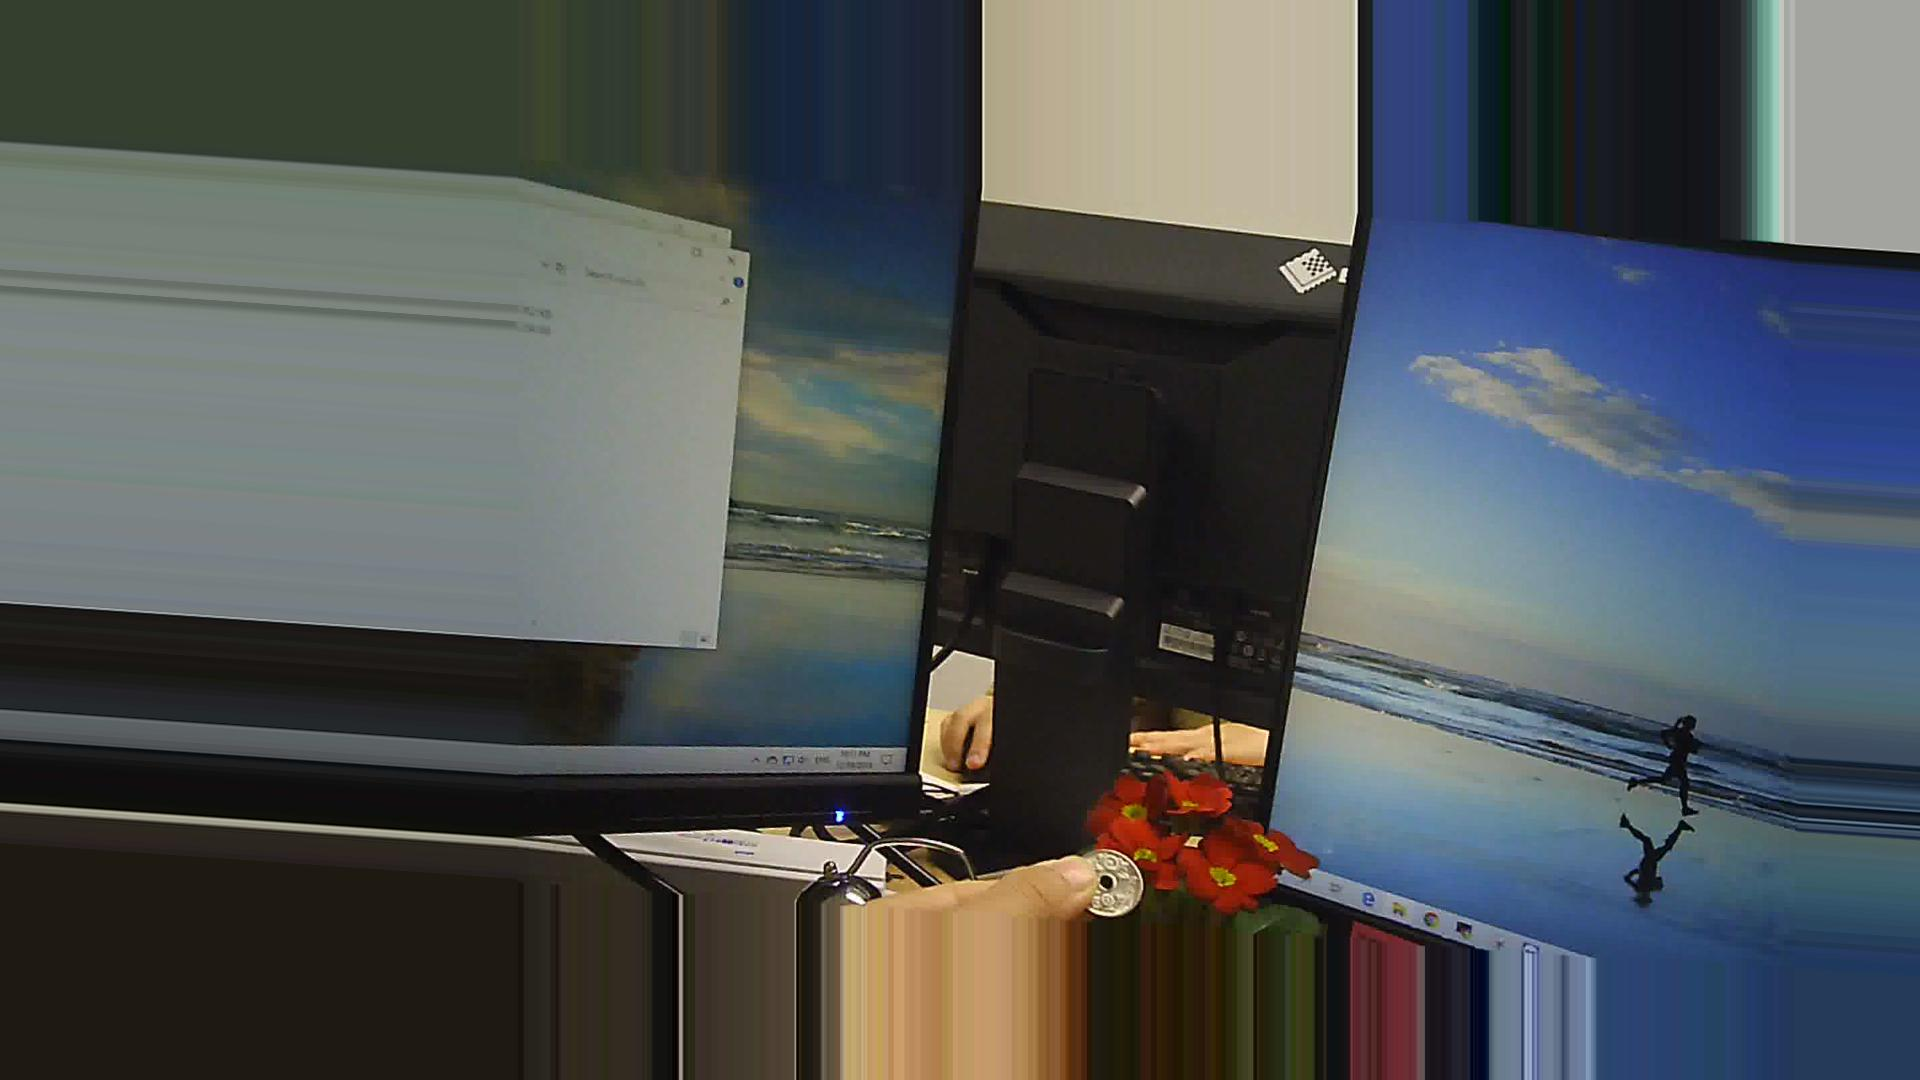50 Yen: (1069, 843, 1143, 924)
